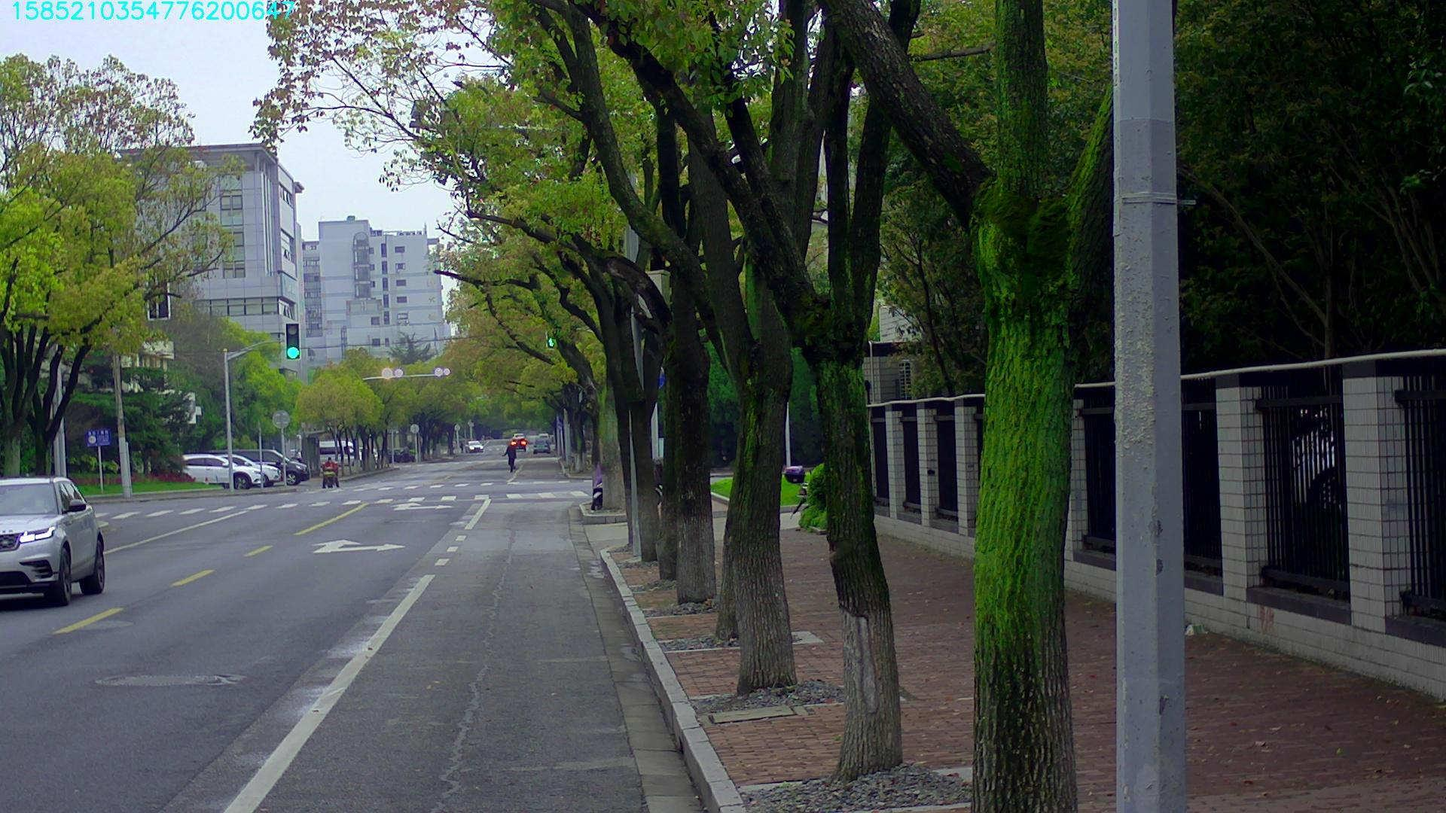green: (285, 322, 299, 359), (545, 316, 557, 349)
